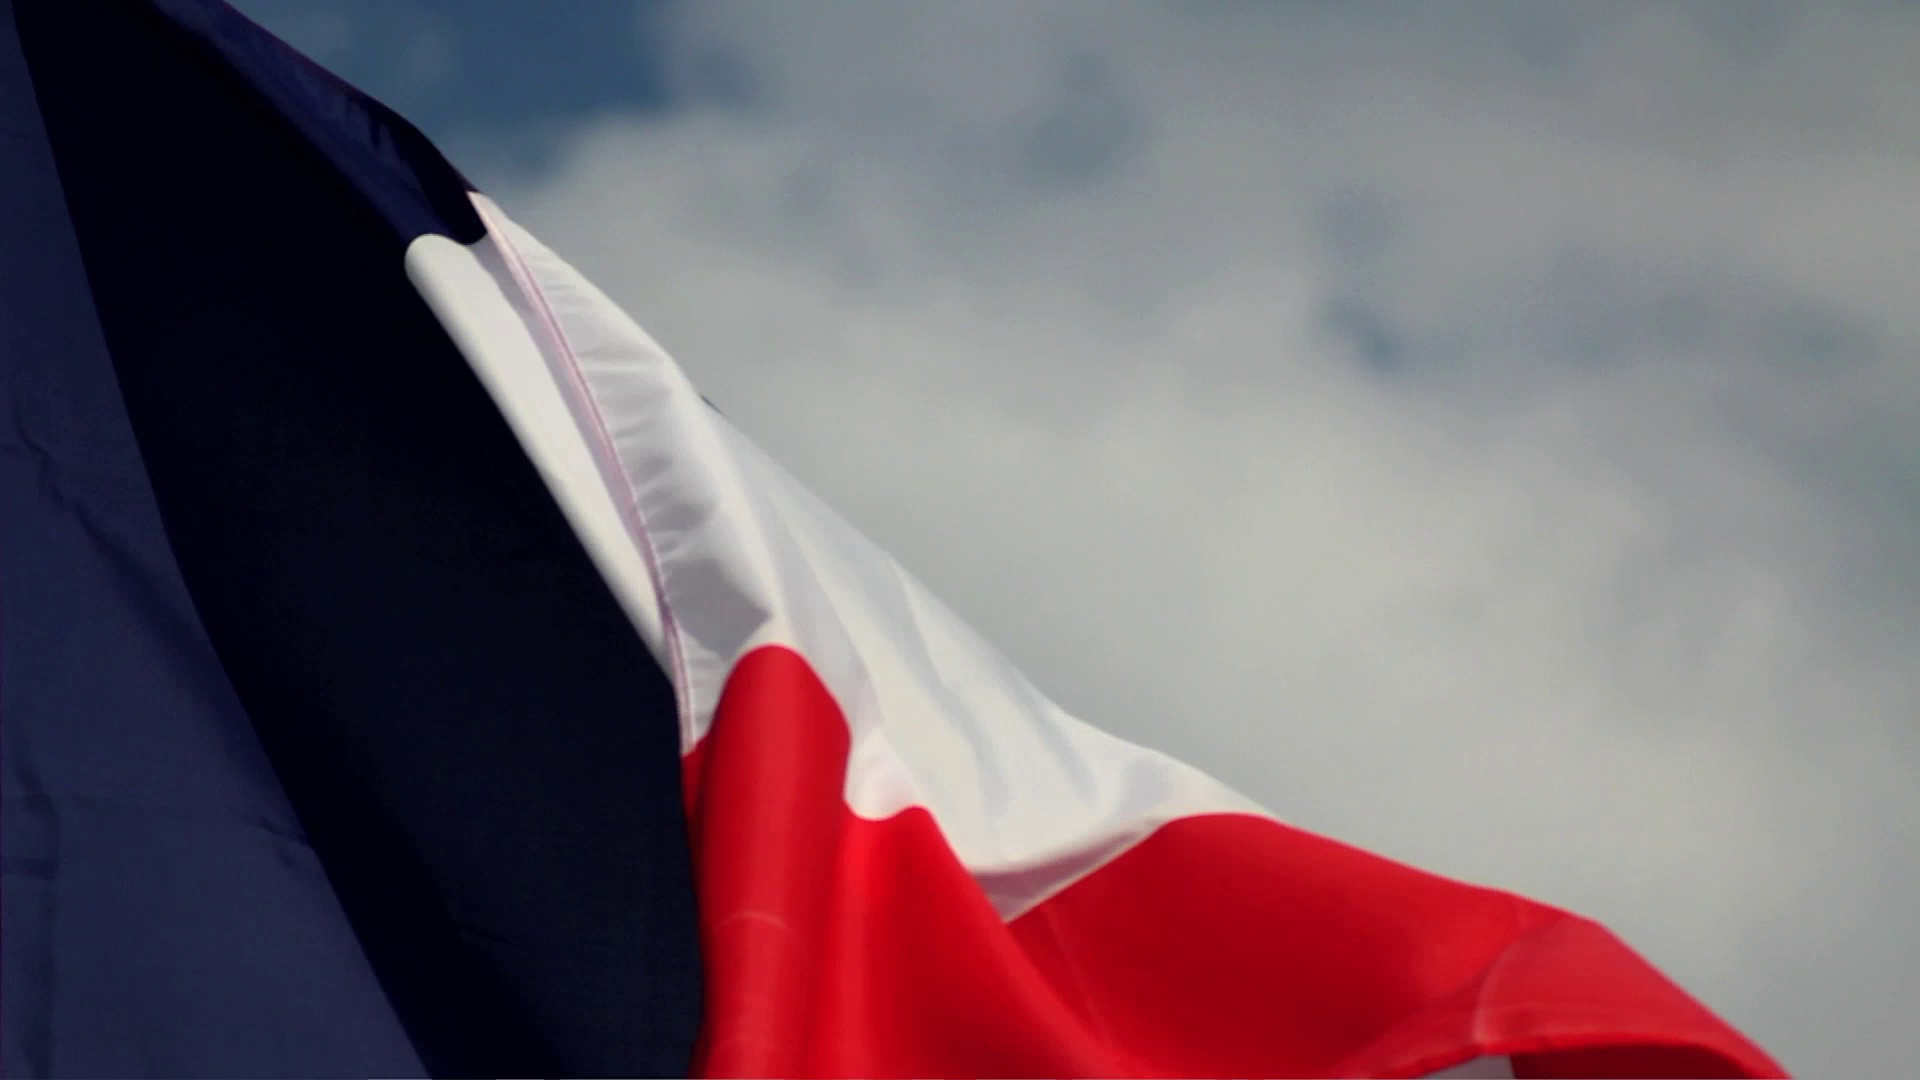French Flag: (7, 1, 1780, 1080)
